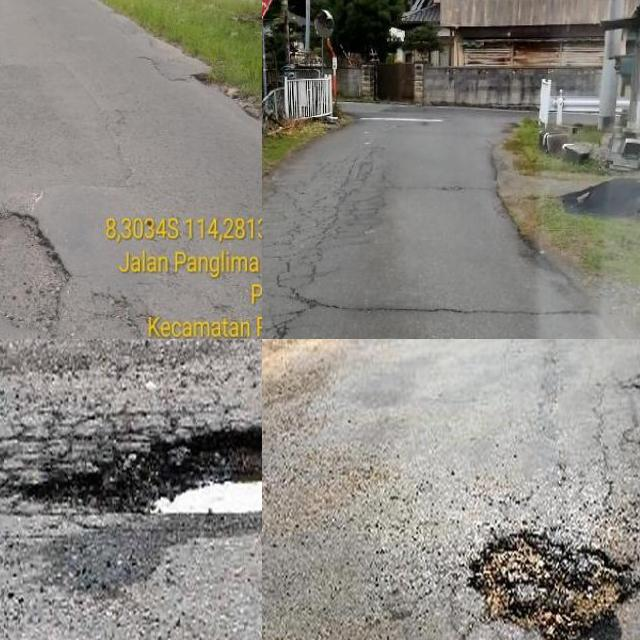Lubang: (31, 423, 262, 512), (473, 534, 634, 636), (0, 208, 76, 339)
Melintang: (311, 291, 608, 325)
